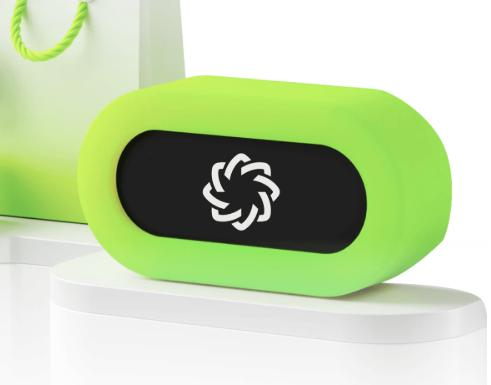ABB: (200, 151, 284, 232)
